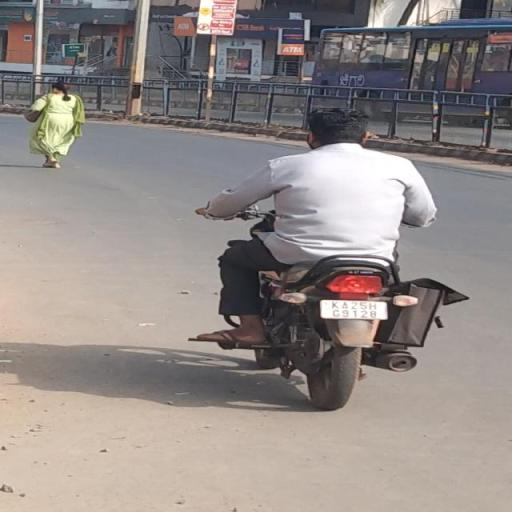bike: (191, 102, 468, 413)
numberplate: (322, 298, 386, 320)
withouthelmet: (310, 108, 366, 147)
